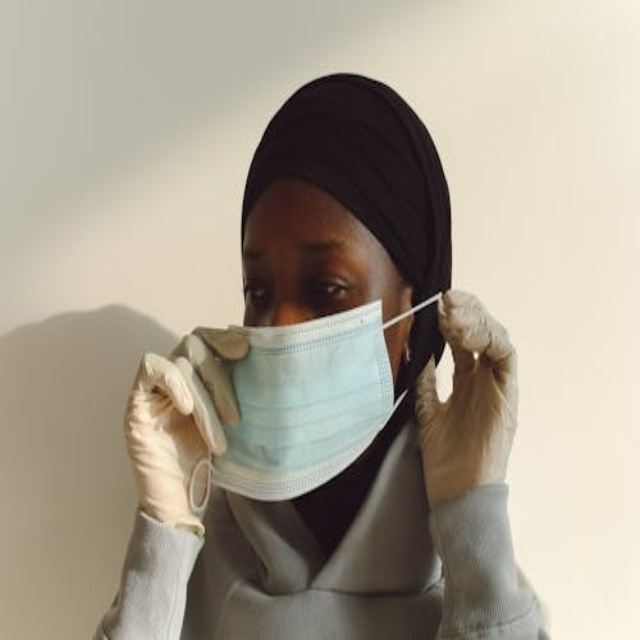Guantes: (411, 285, 518, 505), (124, 343, 223, 531)
Mascara: (185, 297, 400, 502)
Sin_gafas: (237, 227, 378, 319)
